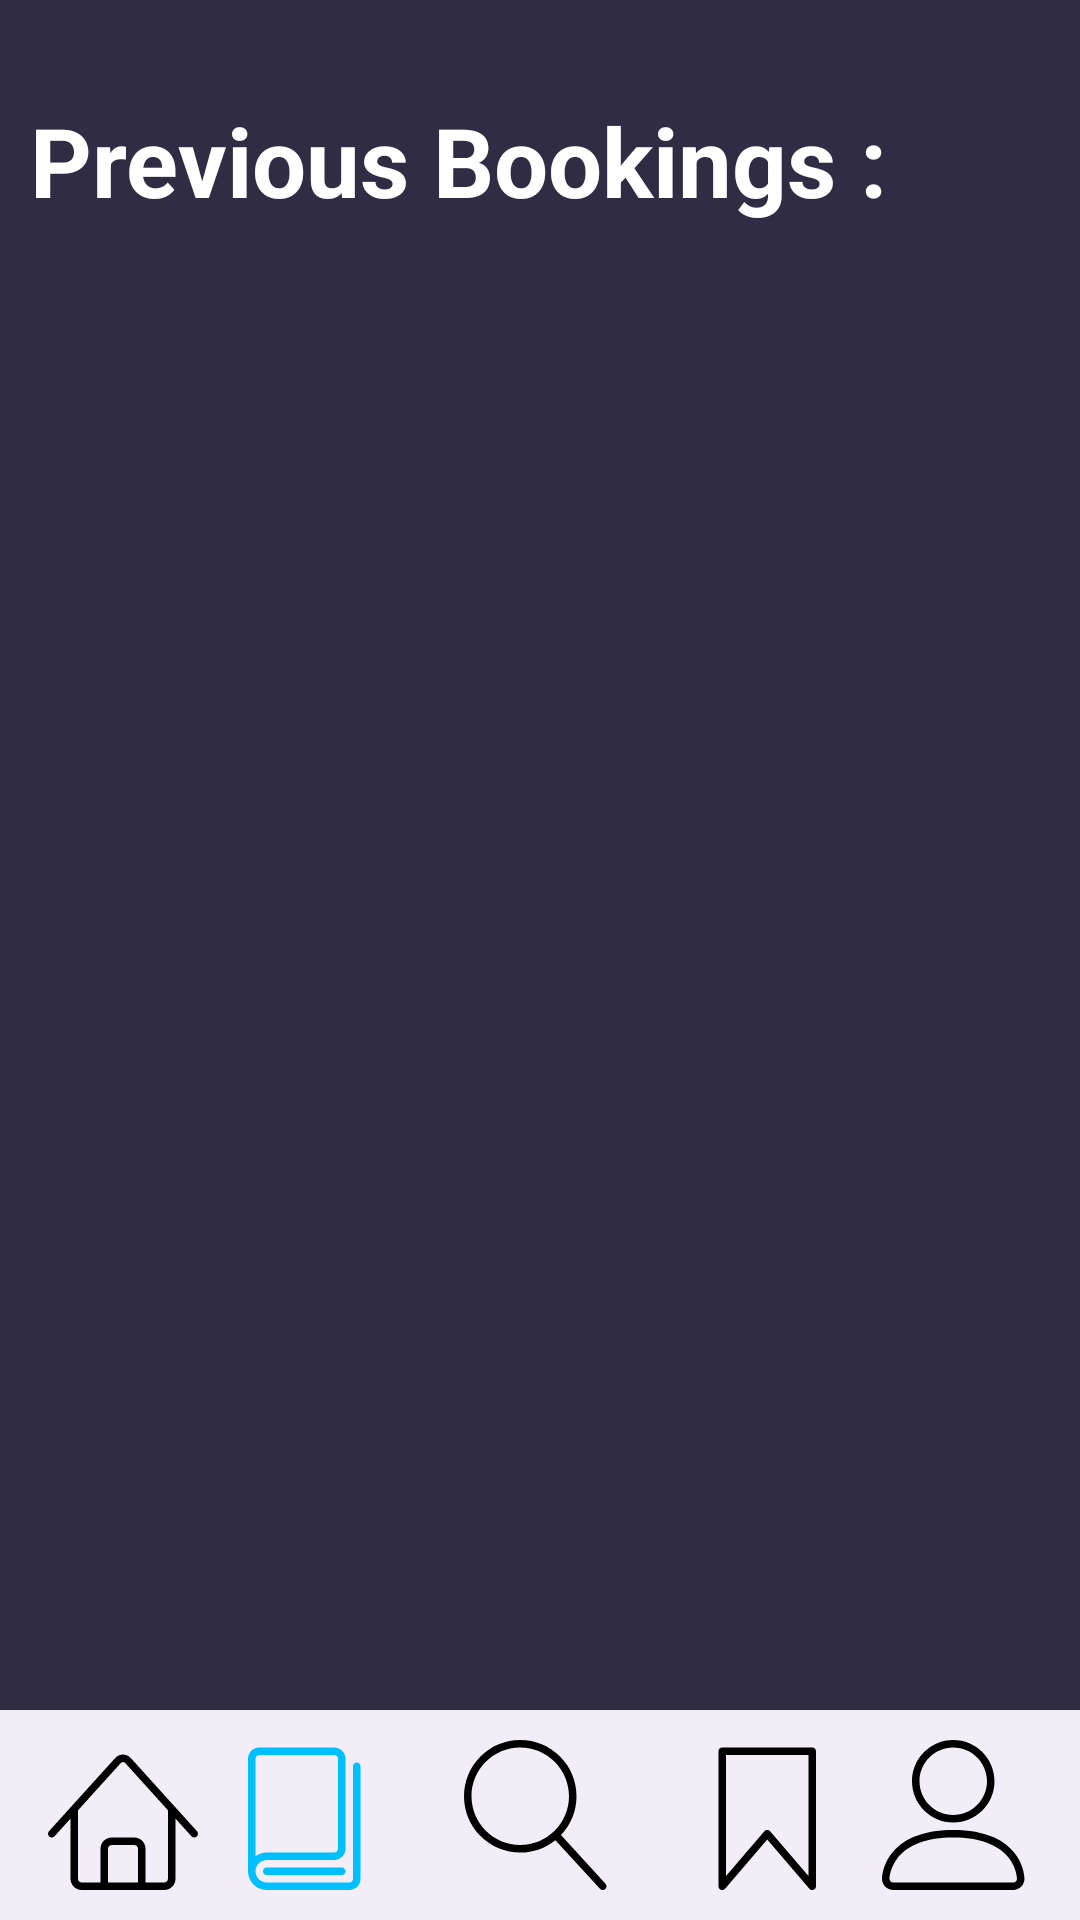

Icons on this 1080px x 1920px Android screen, each with its box as (x1, y1, x2, y2):
fav: (718, 1747, 816, 1890)
home: (48, 1754, 198, 1890)
mag: (464, 1740, 607, 1890)
user: (882, 1740, 1025, 1890)
